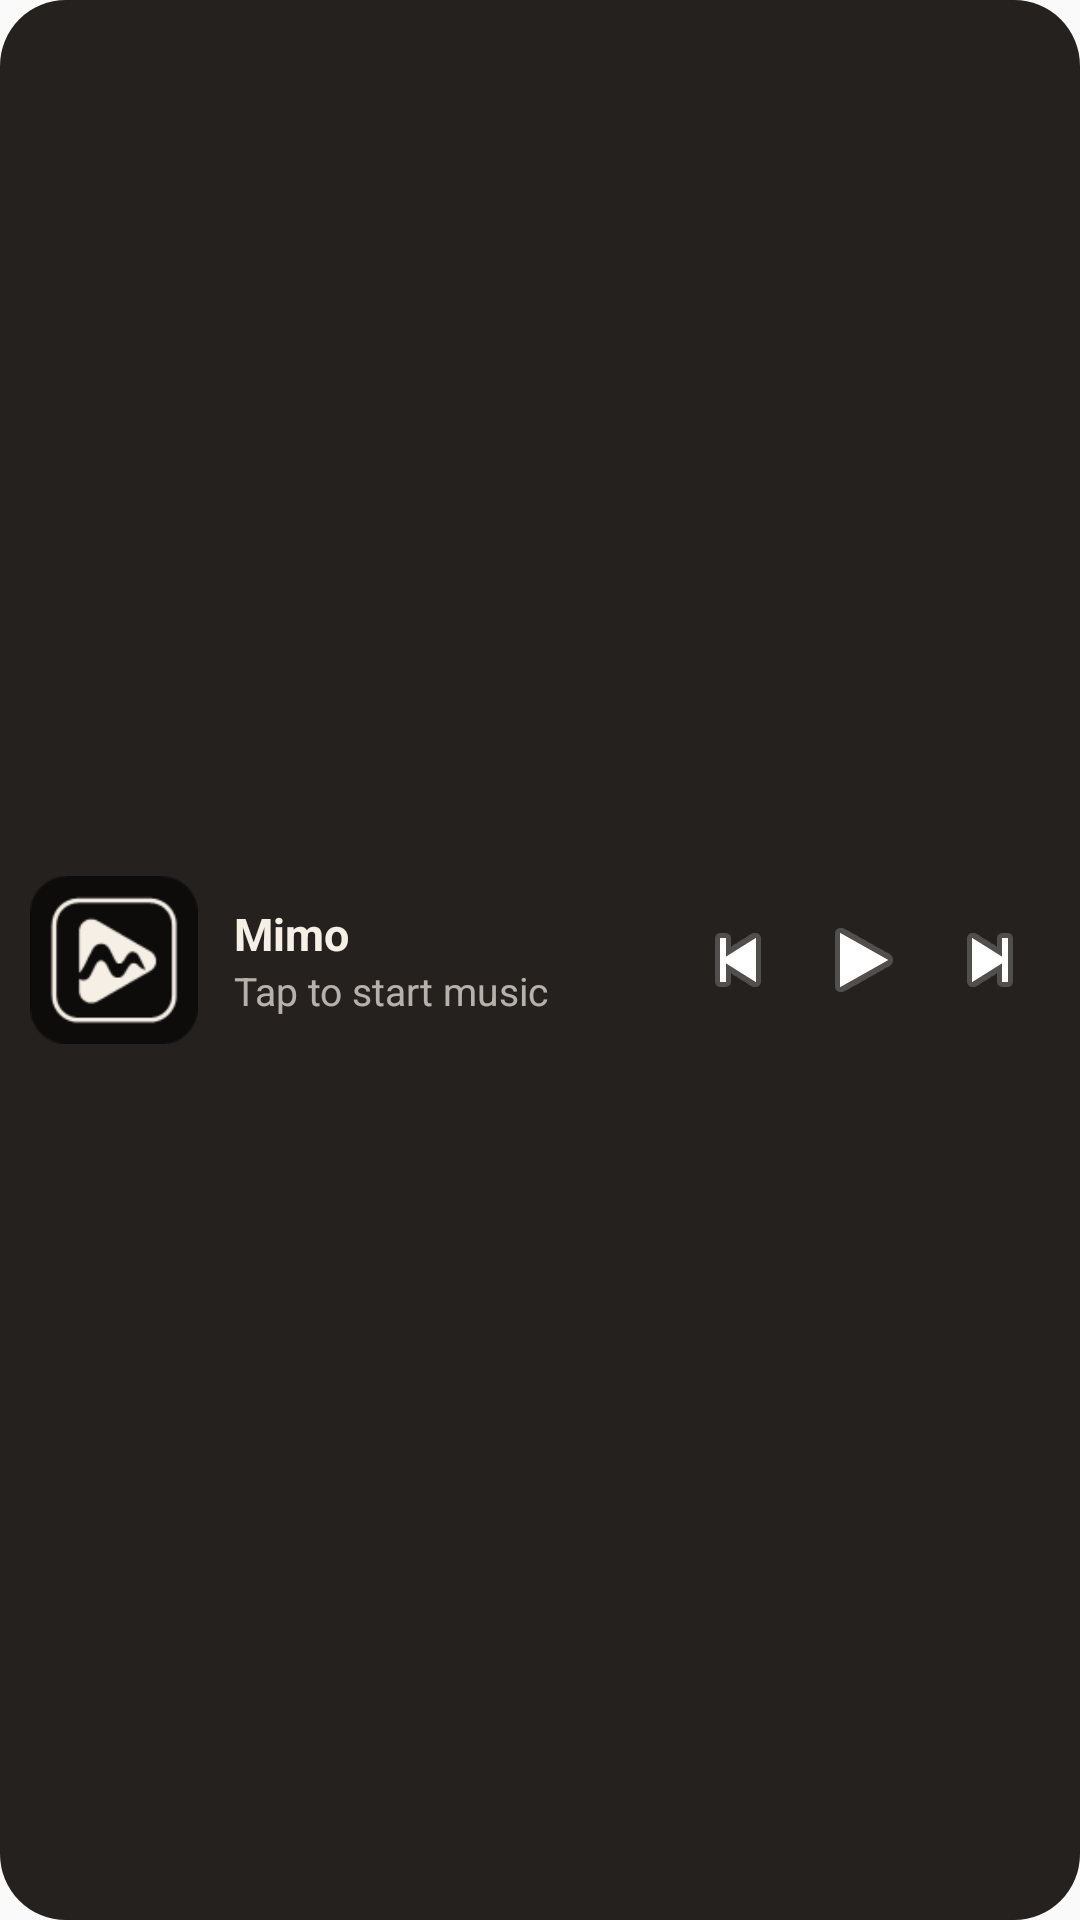

Icon bounding boxes for this 1080×1920 phone screenshot, format bbox=(x1, y1, x2, y2):
Next: bbox=(967, 933, 1013, 987)
Play or pause: bbox=(835, 928, 893, 992)
Previous: bbox=(715, 933, 761, 987)
